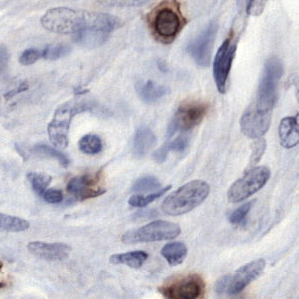Lymphocyte: (151, 8, 183, 39)
